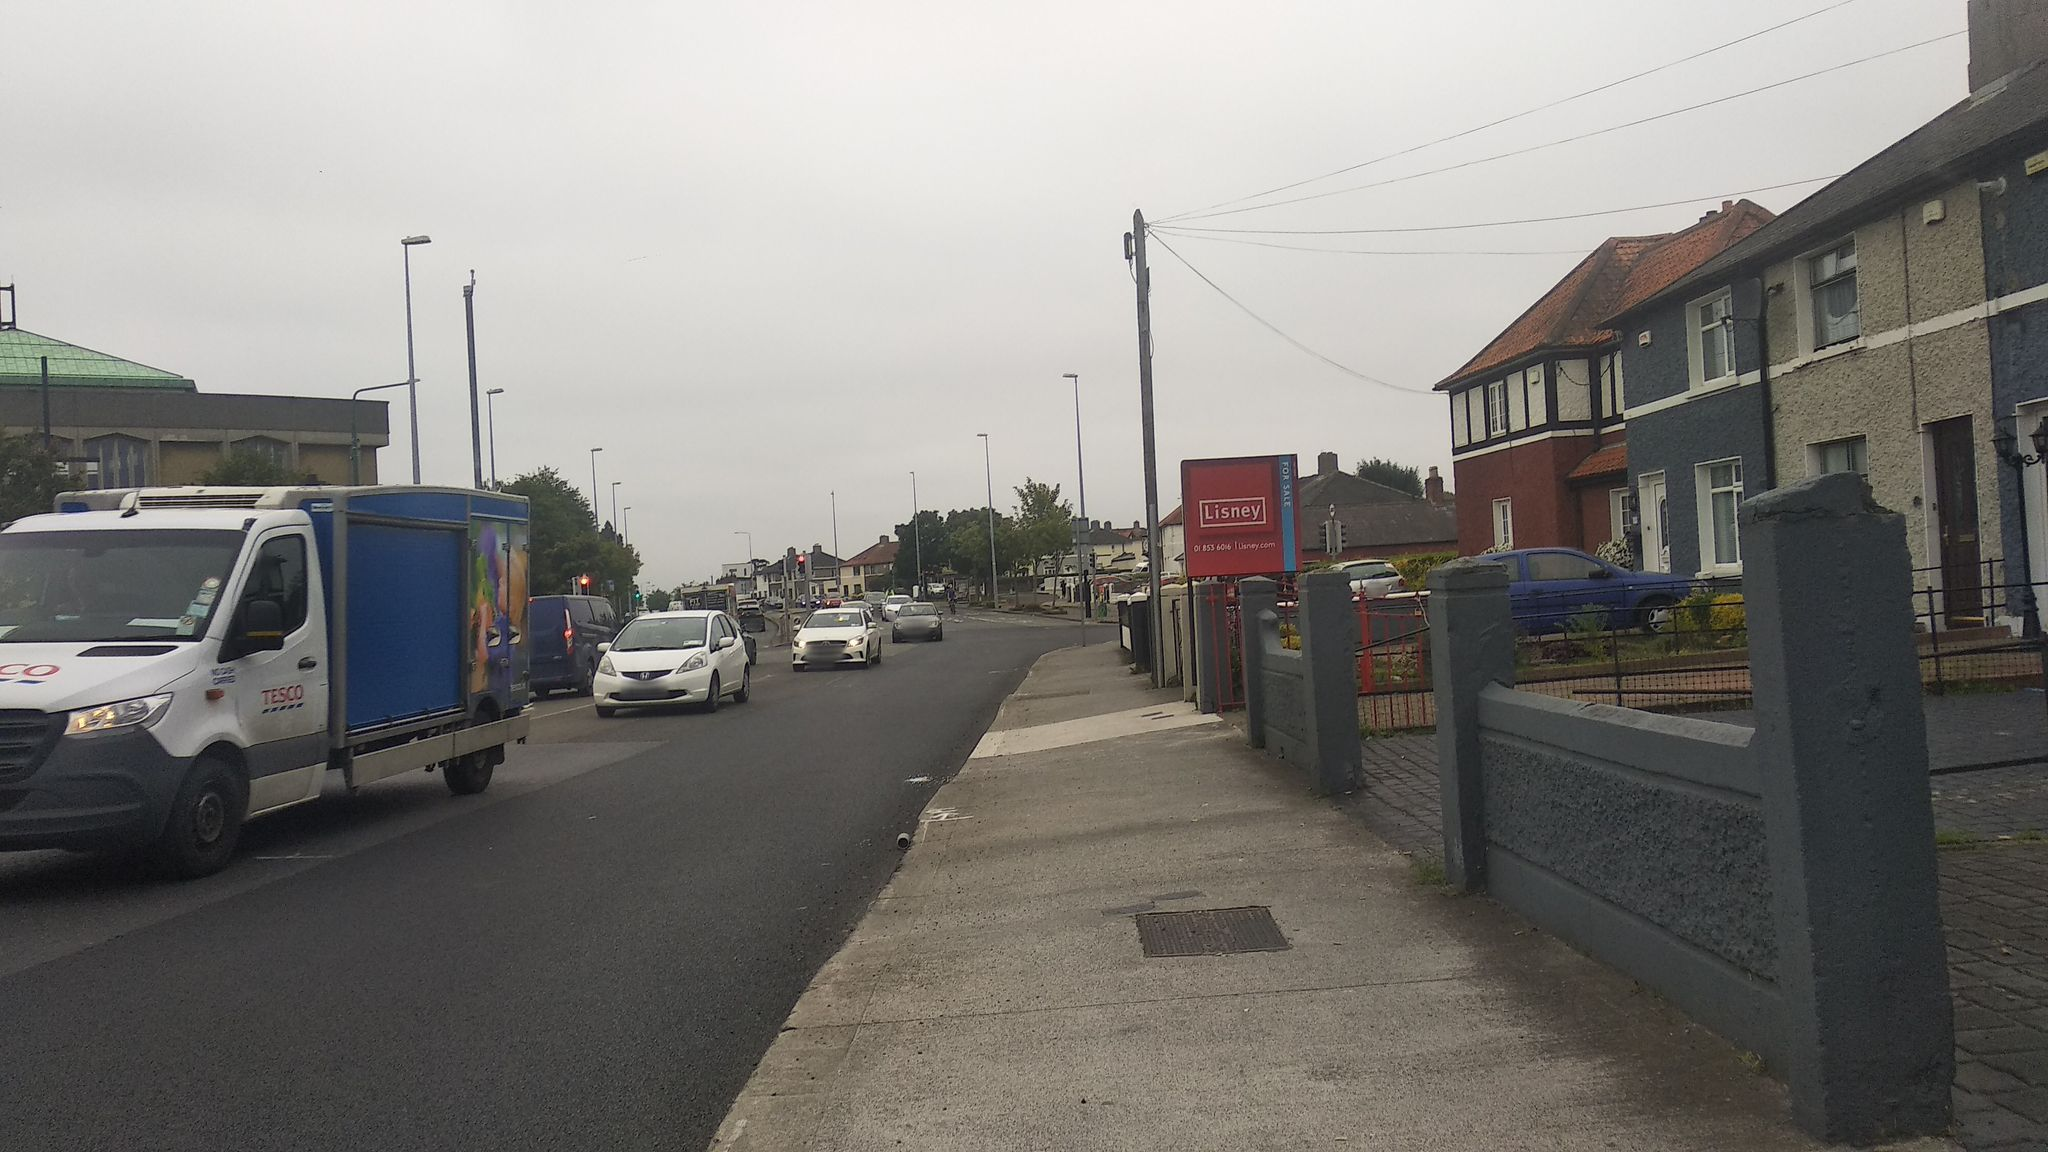property sign: (1145, 440, 1312, 580)
